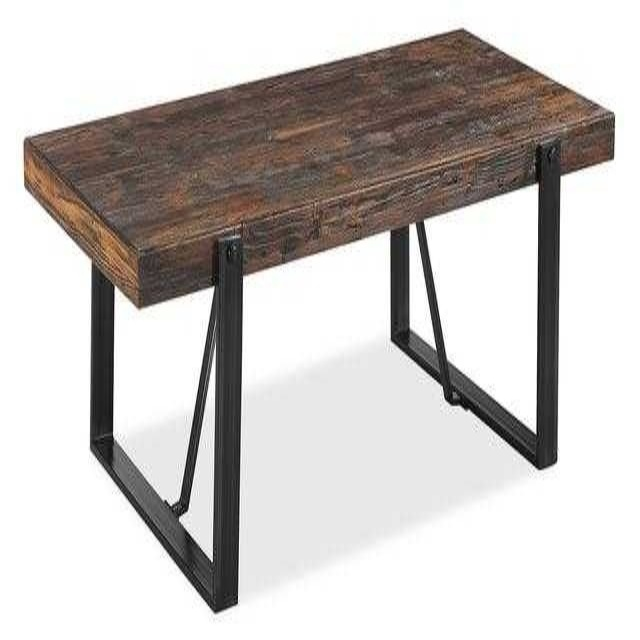obstacle: (24, 30, 613, 610)
